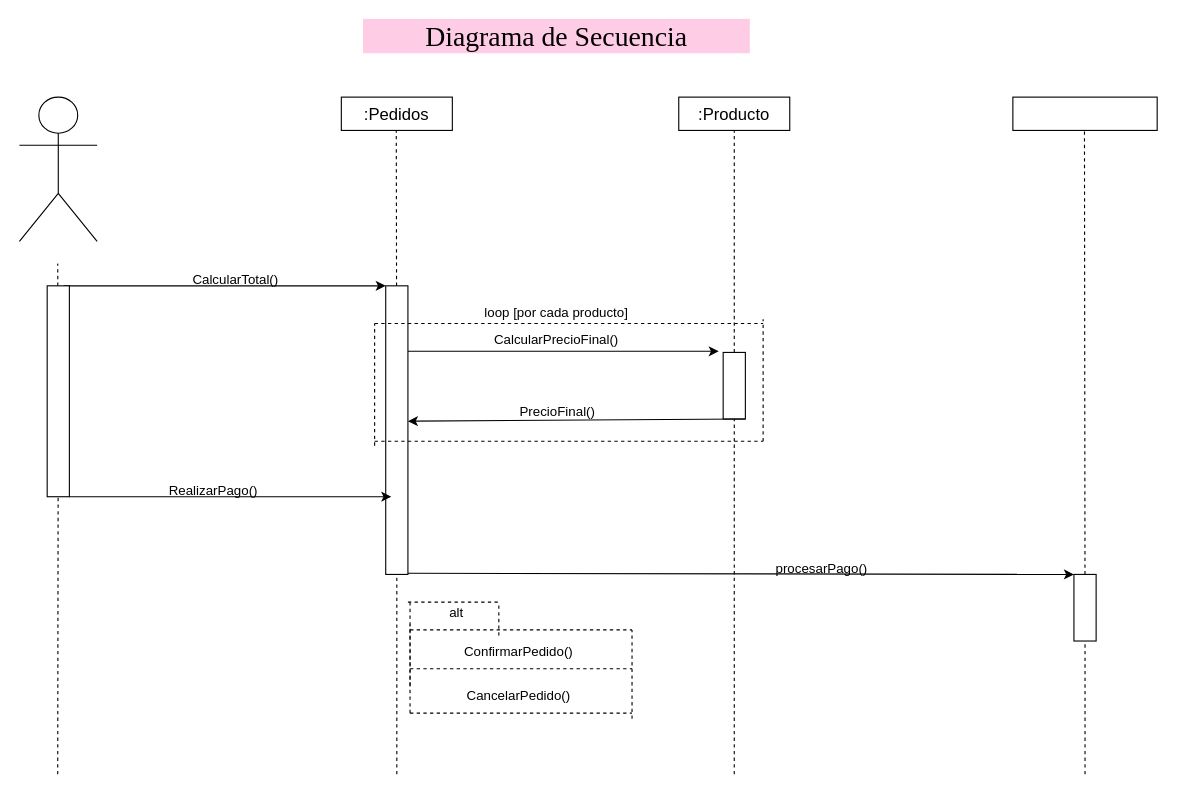
This 1177x795 diagram has some shape labels left out. Each missing label, with the centre of its shape:
:Sistema: the point at 1084,113
Cliente: the point at 57,168
